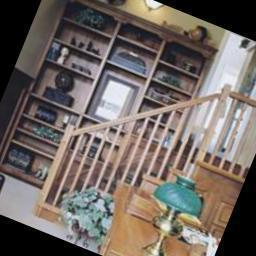Escaleras: (37, 39, 256, 256)
